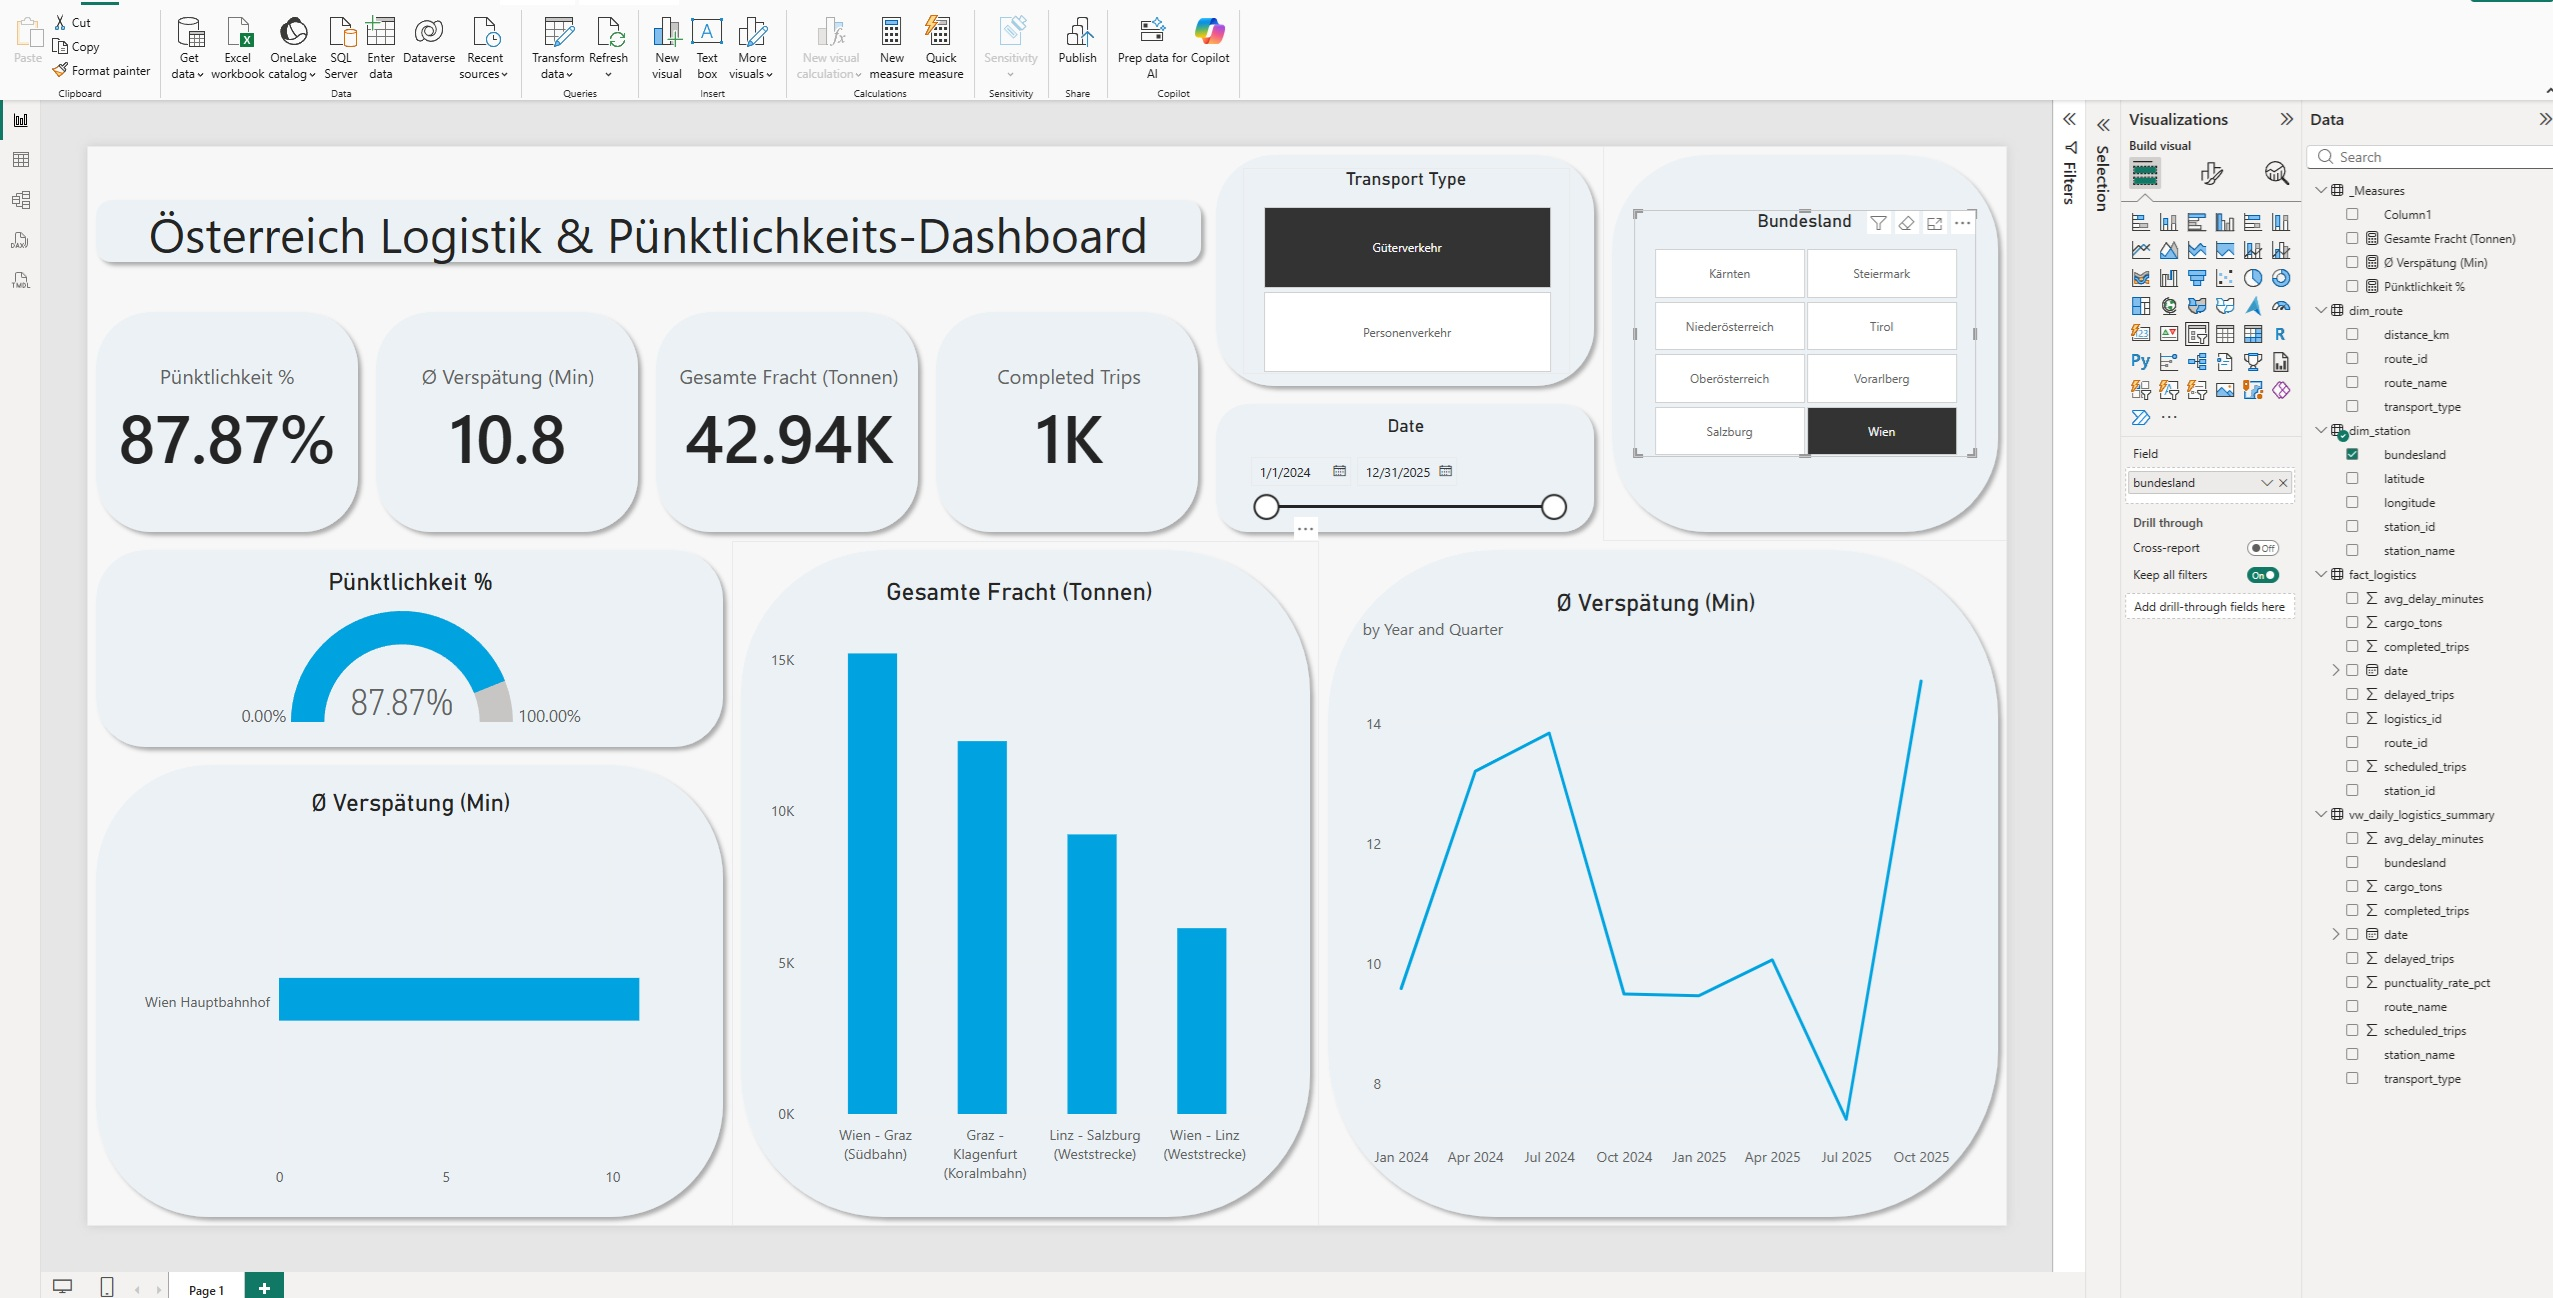

The dashboard page shown, as its layout file describes it:
{"tool":"powerbi","page":{"name":"Page 1","canvas":[1920,1080],"ordinal":0},"visuals":[{"type":"group","id":"g1","title":"Background","box":[0,0,1920,1080],"z":0},{"type":"shape","box":[0,45,1123,80],"z":0,"group":"g1"},{"type":"shape","box":[1120,0,396,249],"z":1000,"group":"g1"},{"type":"slicer","title":"Transport Type","fields":{"Values":["dim_route.transport_type"]},"box":[1156,22,327,206],"z":1000},{"type":"shape","box":[1516,0,404,395],"z":2000,"group":"g1"},{"type":"slicer","title":"Bundesland","fields":{"Values":["dim_station.bundesland"]},"box":[1547,64,342,247],"z":2000},{"type":"shape","box":[1120,249,396,146],"z":3000,"group":"g1"},{"type":"slicer","title":"Date","fields":{"Values":["fact_logistics.date"]},"box":[1156,269,327,126],"z":3000},{"type":"cardVisual","fields":{"Data":["_Measures.Pünktlichkeit %"]},"box":[0,157,281,238],"z":4000},{"type":"shape","box":[840,157,280,238],"z":4000,"group":"g1"},{"type":"cardVisual","fields":{"Data":["_Measures.Ø Verspätung (Min)"]},"box":[281,157,281,238],"z":5000},{"type":"shape","box":[560,157,280,238],"z":5000,"group":"g1"},{"type":"shape","box":[280,157,280,238],"z":6000,"group":"g1"},{"type":"cardVisual","fields":{"Data":["_Measures.Gesamte Fracht (Tonnen)"]},"box":[562,157,281,238],"z":6000},{"type":"shape","box":[0,157,280,238],"z":7000,"group":"g1"},{"type":"cardVisual","fields":{"Data":["Sum(fact_logistics.completed_trips)"]},"box":[842,157,281,238],"z":7000},{"type":"shape","box":[0,395,645,215],"z":8000,"group":"g1"},{"type":"gauge","fields":{"Y":["_Measures.Pünktlichkeit %"]},"box":[32,408,584,189],"z":8000},{"type":"shape","box":[1232,395,688,685],"z":9000,"group":"g1"},{"type":"clusteredBarChart","title":"Ø Verspätung (Min)","fields":{"Category":["dim_station.station_name"],"Y":["_Measures.Ø Verspätung (Min)"]},"box":[32,629,584,433],"z":9000},{"type":"shape","box":[645,395,587,685],"z":10000,"group":"g1"},{"type":"columnChart","title":"Gesamte Fracht (Tonnen)","fields":{"Category":["dim_route.route_name"],"Y":["_Measures.Gesamte Fracht (Tonnen)"]},"box":[660,418,545,637],"z":10000},{"type":"lineChart","fields":{"Category":["fact_logistics.date.Variation.Date Hierarchy.Year","fact_logistics.date.Variation.Date Hierarchy.Quarter","fact_logistics.date.Variation.Date Hierarchy.Month","fact_logistics.date.Variation.Date Hierarchy.Day"],"Y":["_Measures.Ø Verspätung (Min)"]},"box":[1260,429,618,613],"z":11000},{"type":"shape","box":[0,610,645,470],"z":11000,"group":"g1"},{"type":"textbox","box":[2,55,1120,80],"z":12000}]}

Visuals, with their boxes on the page's 1920x1080 design canvas (x1, y1, x2, y2). These are canvas units, not pixel positions in the 2553x1298 screenshot, which may show the page scaled, cropped or inside an application window:
"Background" group: 0, 0, 1920, 1080
shape: 0, 45, 1123, 125
shape: 1120, 0, 1516, 249
"Transport Type" slicer: 1156, 22, 1483, 228
shape: 1516, 0, 1920, 395
"Bundesland" slicer: 1547, 64, 1889, 311
shape: 1120, 249, 1516, 395
"Date" slicer: 1156, 269, 1483, 395
cardVisual - _Measures.Pünktlichkeit %: 0, 157, 281, 395
shape: 840, 157, 1120, 395
cardVisual - _Measures.Ø Verspätung (Min): 281, 157, 562, 395
shape: 560, 157, 840, 395
shape: 280, 157, 560, 395
cardVisual - _Measures.Gesamte Fracht (Tonnen): 562, 157, 843, 395
shape: 0, 157, 280, 395
cardVisual - Sum(fact_logistics.completed_trips): 842, 157, 1123, 395
shape: 0, 395, 645, 610
gauge - _Measures.Pünktlichkeit %: 32, 408, 616, 597
shape: 1232, 395, 1920, 1080
"Ø Verspätung (Min)" clusteredBarChart: 32, 629, 616, 1062
shape: 645, 395, 1232, 1080
"Gesamte Fracht (Tonnen)" columnChart: 660, 418, 1205, 1055
lineChart - fact_logistics.date.Variation.Date Hierarchy.Year x fact_logistics.date.Variation.Date Hierarchy.Quarter: 1260, 429, 1878, 1042
shape: 0, 610, 645, 1080
textbox: 2, 55, 1122, 135
